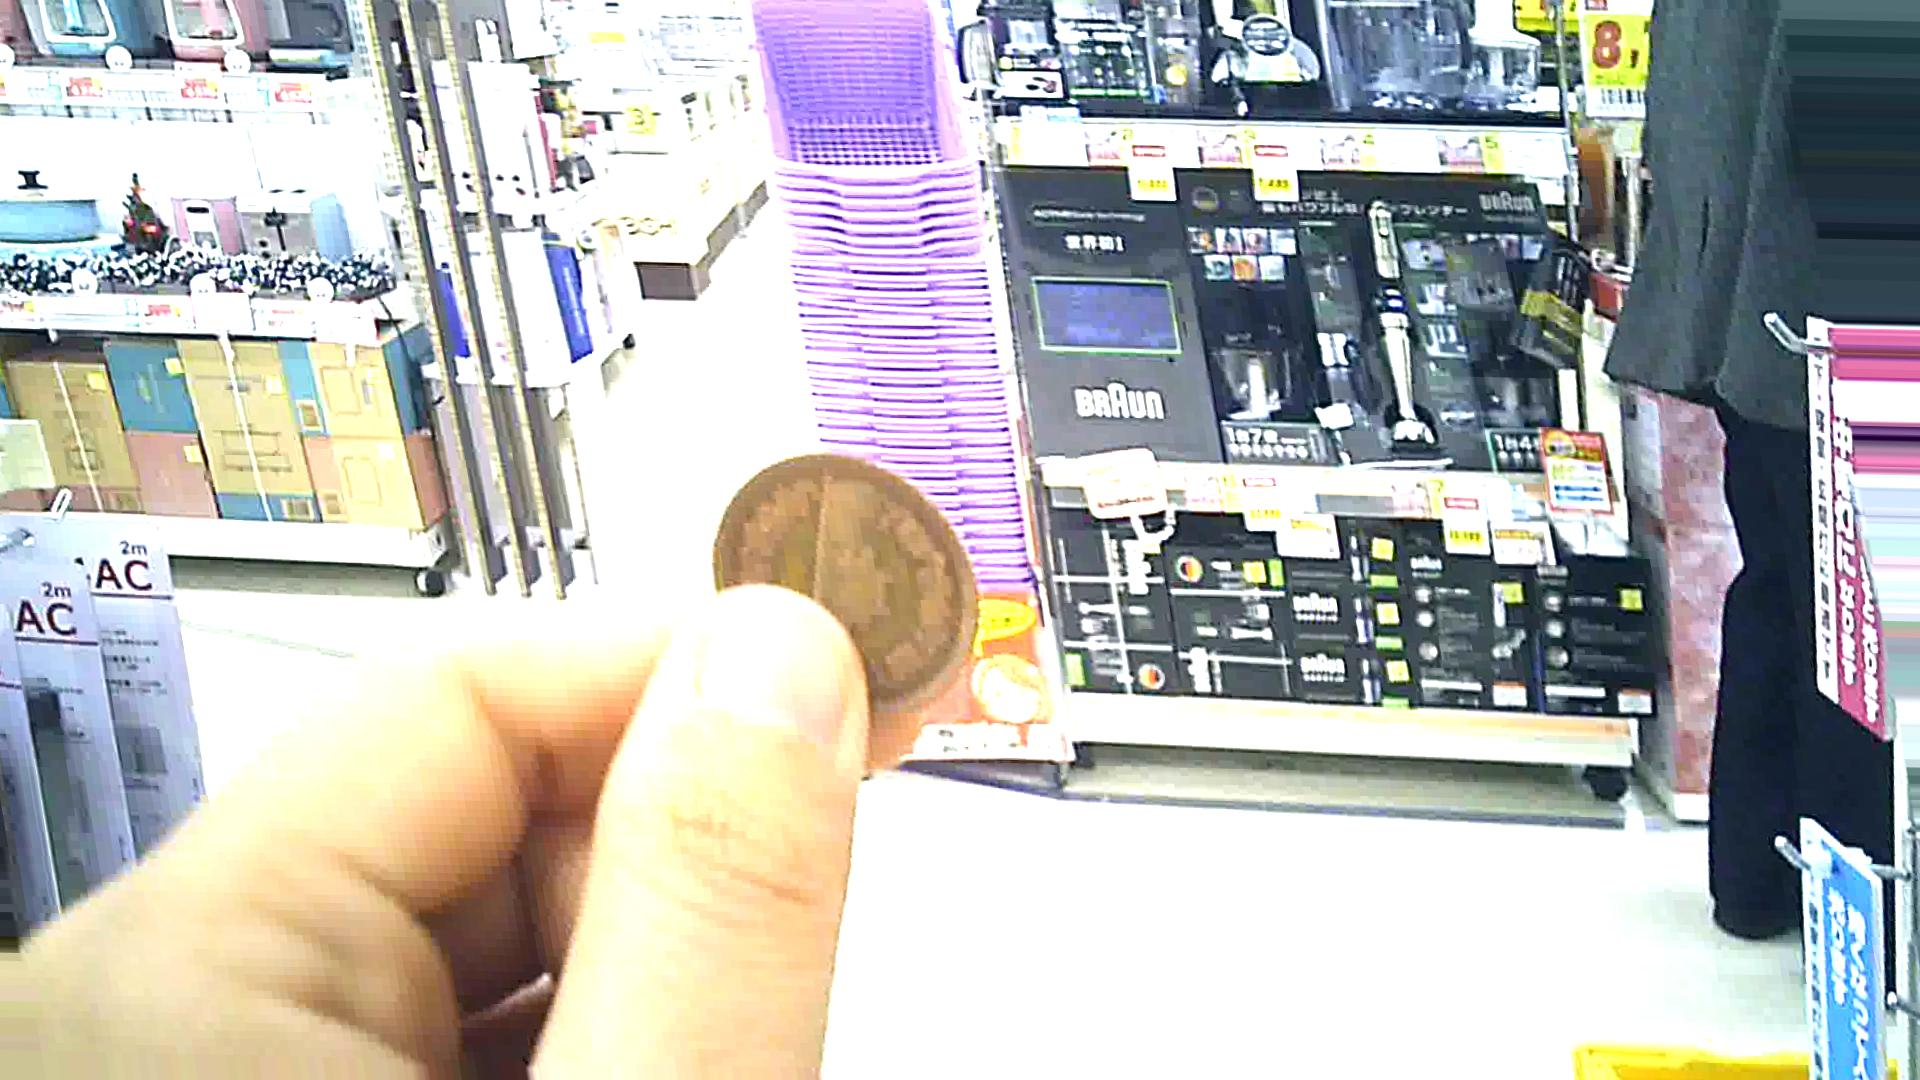10 Yen: (704, 442, 1002, 717)
